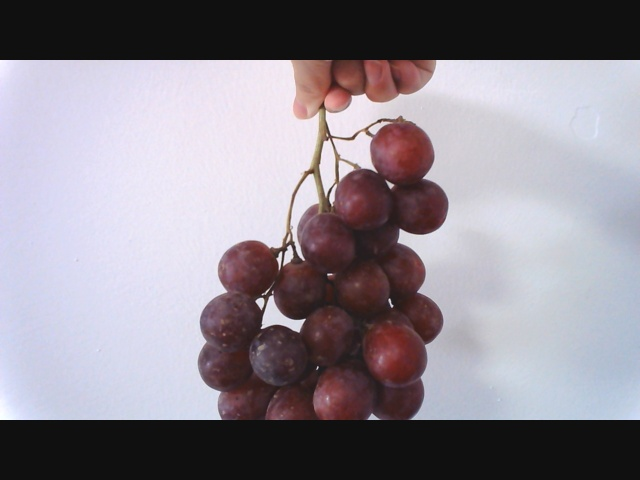grape: (185, 107, 484, 414)
